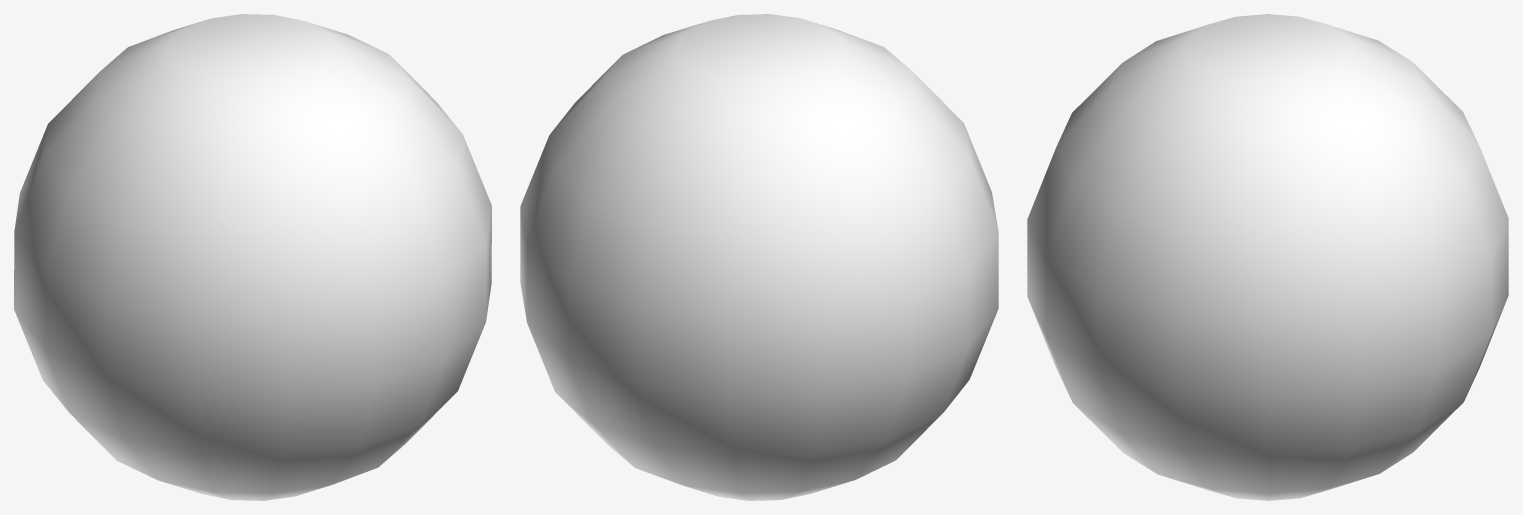
The model's file is diff_3.2.fbx.
The picture shows the model from 3 angles, left to right: view 1: azimuth 30°, elevation 25°; view 2: azimuth 150°, elevation 25°; view 3: azimuth 270°, elevation 25°; orthographic projection.
Parts seen in each view (by area): view 1: Sphere.004; view 2: Sphere.004; view 3: Sphere.004.
Part boxes in pixels (x1,y1,x2,y2): Sphere.004: (14, 14, 491, 500); Sphere.004: (520, 14, 998, 500); Sphere.004: (1027, 14, 1508, 500).
Size of the model in its own units: 146 by 140 by 146.
